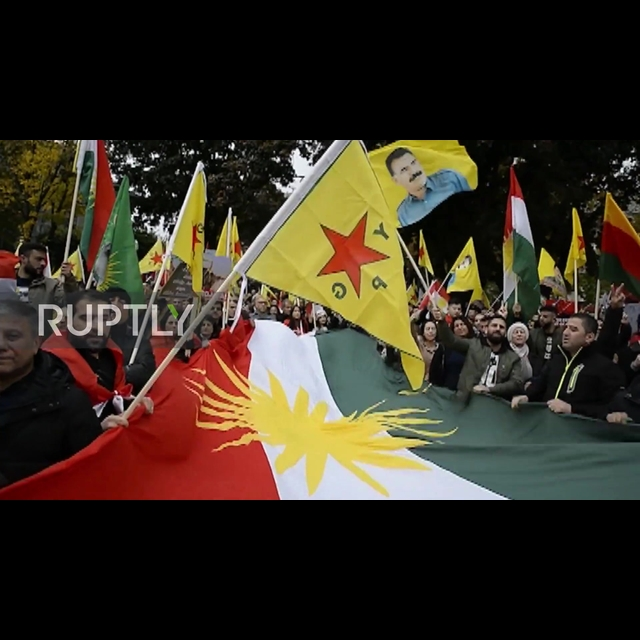APO: (385, 145, 434, 199)
YPG: (309, 206, 394, 312)
